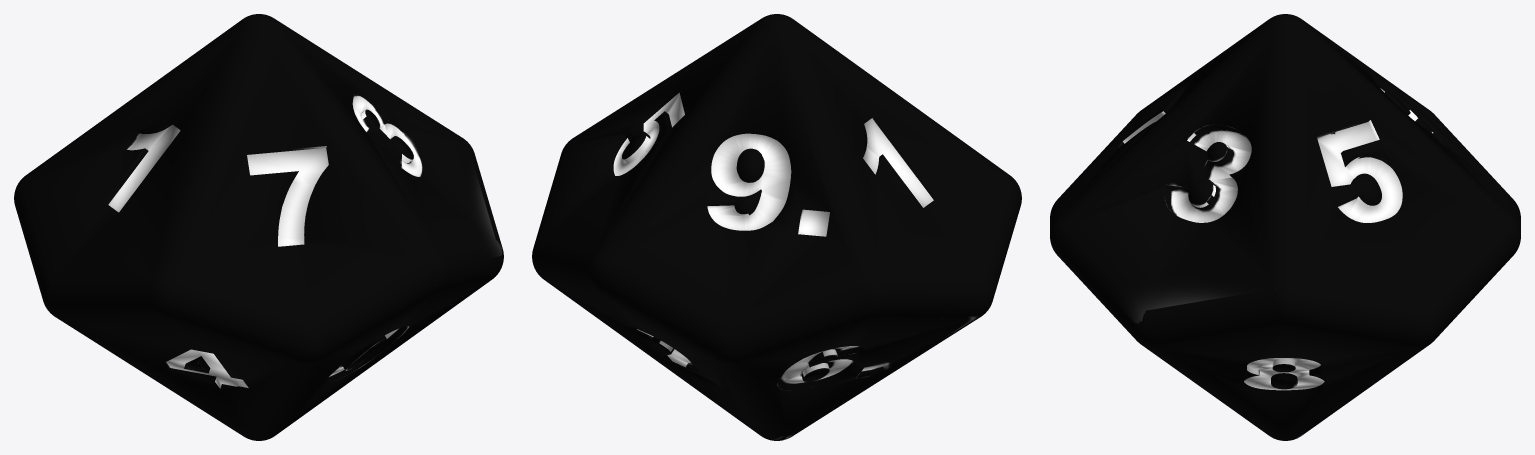
File: d10-tqVaqoYJ.glb
3 renders of one model, left to right at view 1: azimuth 30°, elevation 25°; view 2: azimuth 150°, elevation 25°; view 3: azimuth 270°, elevation 25°, orthographic.
Parts seen in each view (by area): view 1: D9; view 2: D9; view 3: D9.
Boxes of the visible parts, <box> form: D9: <box>14,14,503,440</box>; D9: <box>532,14,1021,440</box>; D9: <box>1050,14,1520,440</box>.
Bounding box in the file's own units: 1.74 × 1.64 × 1.66.
Materials: 1 (1 with a texture image).
